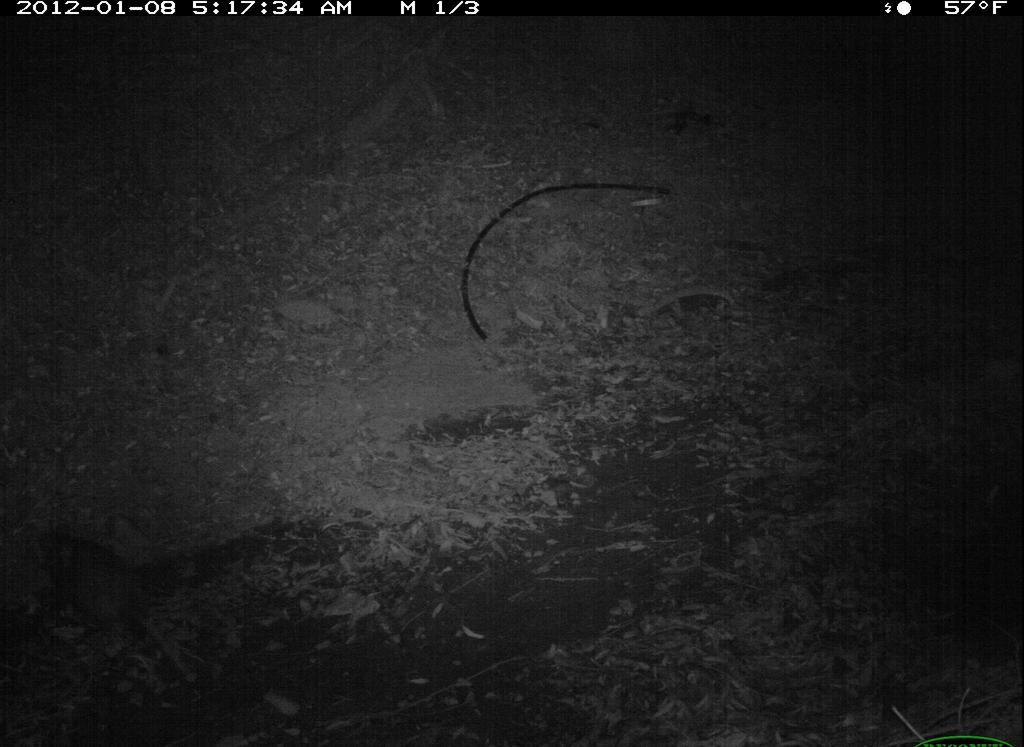opossum: (27, 520, 169, 651)
